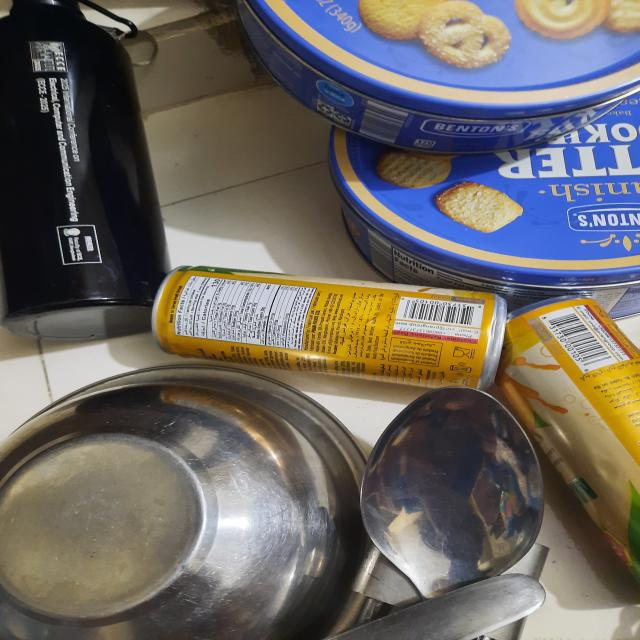Metal: (0, 362, 526, 640)
can: (224, 0, 640, 246), (10, 0, 193, 334), (162, 272, 640, 377)
